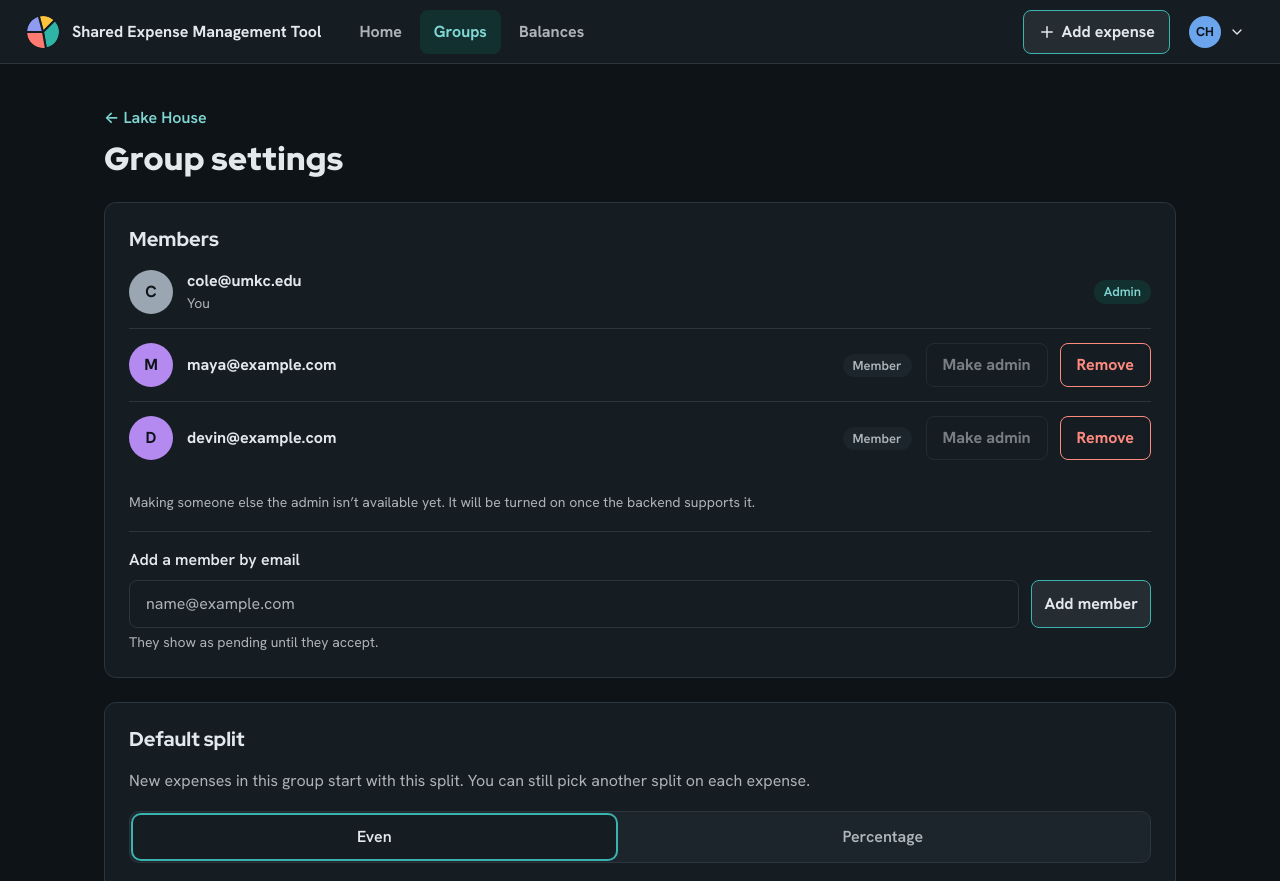
Test: Group settings: add a member › says when the email has no account yet and adds no Pending row
The image size is (1280, 881).
Expected: the heading "Group settings" is shown, [104,137,343,180]
Expected: the text "maya@example.com" is shown, [187,354,336,375]
Type "new@example.com" into the field labelled "Add a member by email".
click(574, 604); type("new@example.com")  # box [129,580,1020,628]
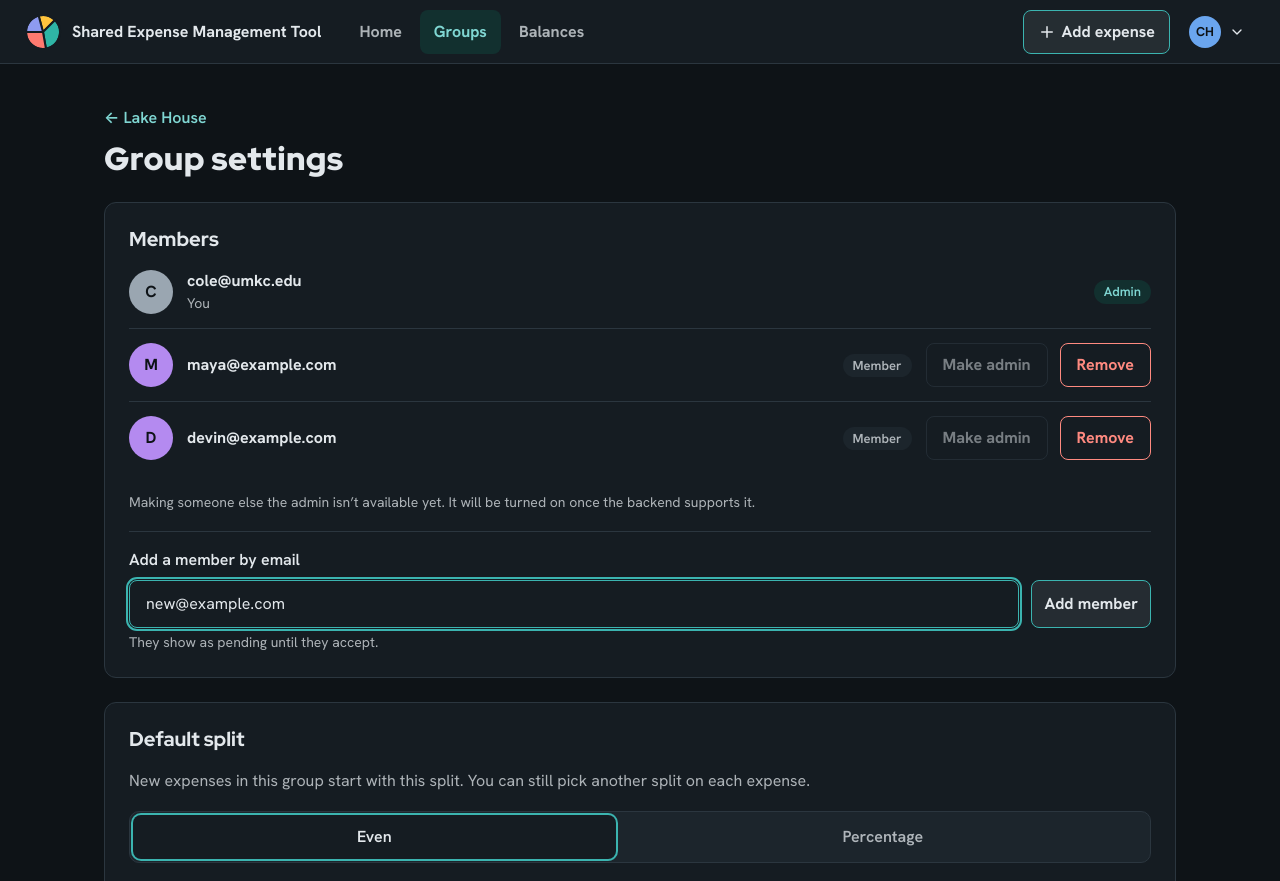
Click the button "Add member".
click(1091, 604)  # box [1032,580,1151,628]
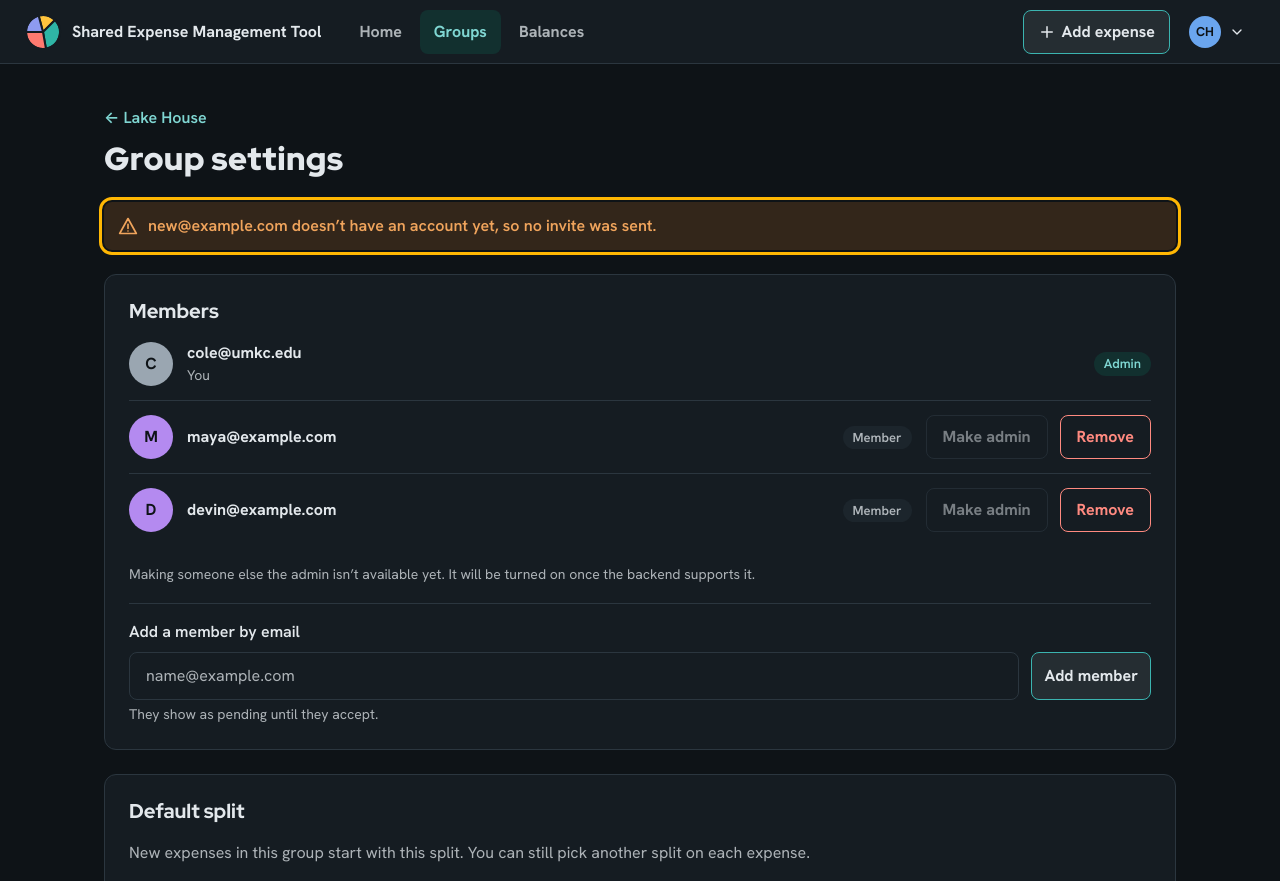
Now the text "new@example.com doesn’t have an account yet, so no invite was sent." is shown, box [148,214,656,238]
